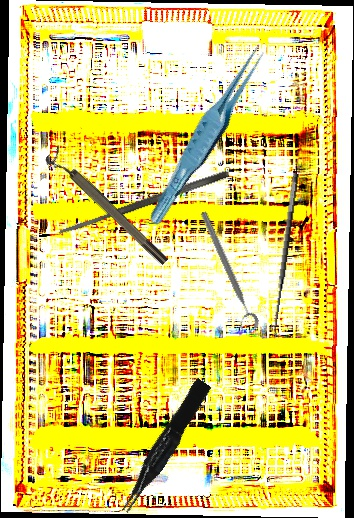Fixation Ring: (43, 144, 171, 273), (190, 209, 262, 335)
Hook Surgical: (268, 172, 312, 339)
Spatula Surgical: (55, 168, 231, 238)
Tissue Forceps: (134, 39, 284, 228), (110, 377, 218, 516)
